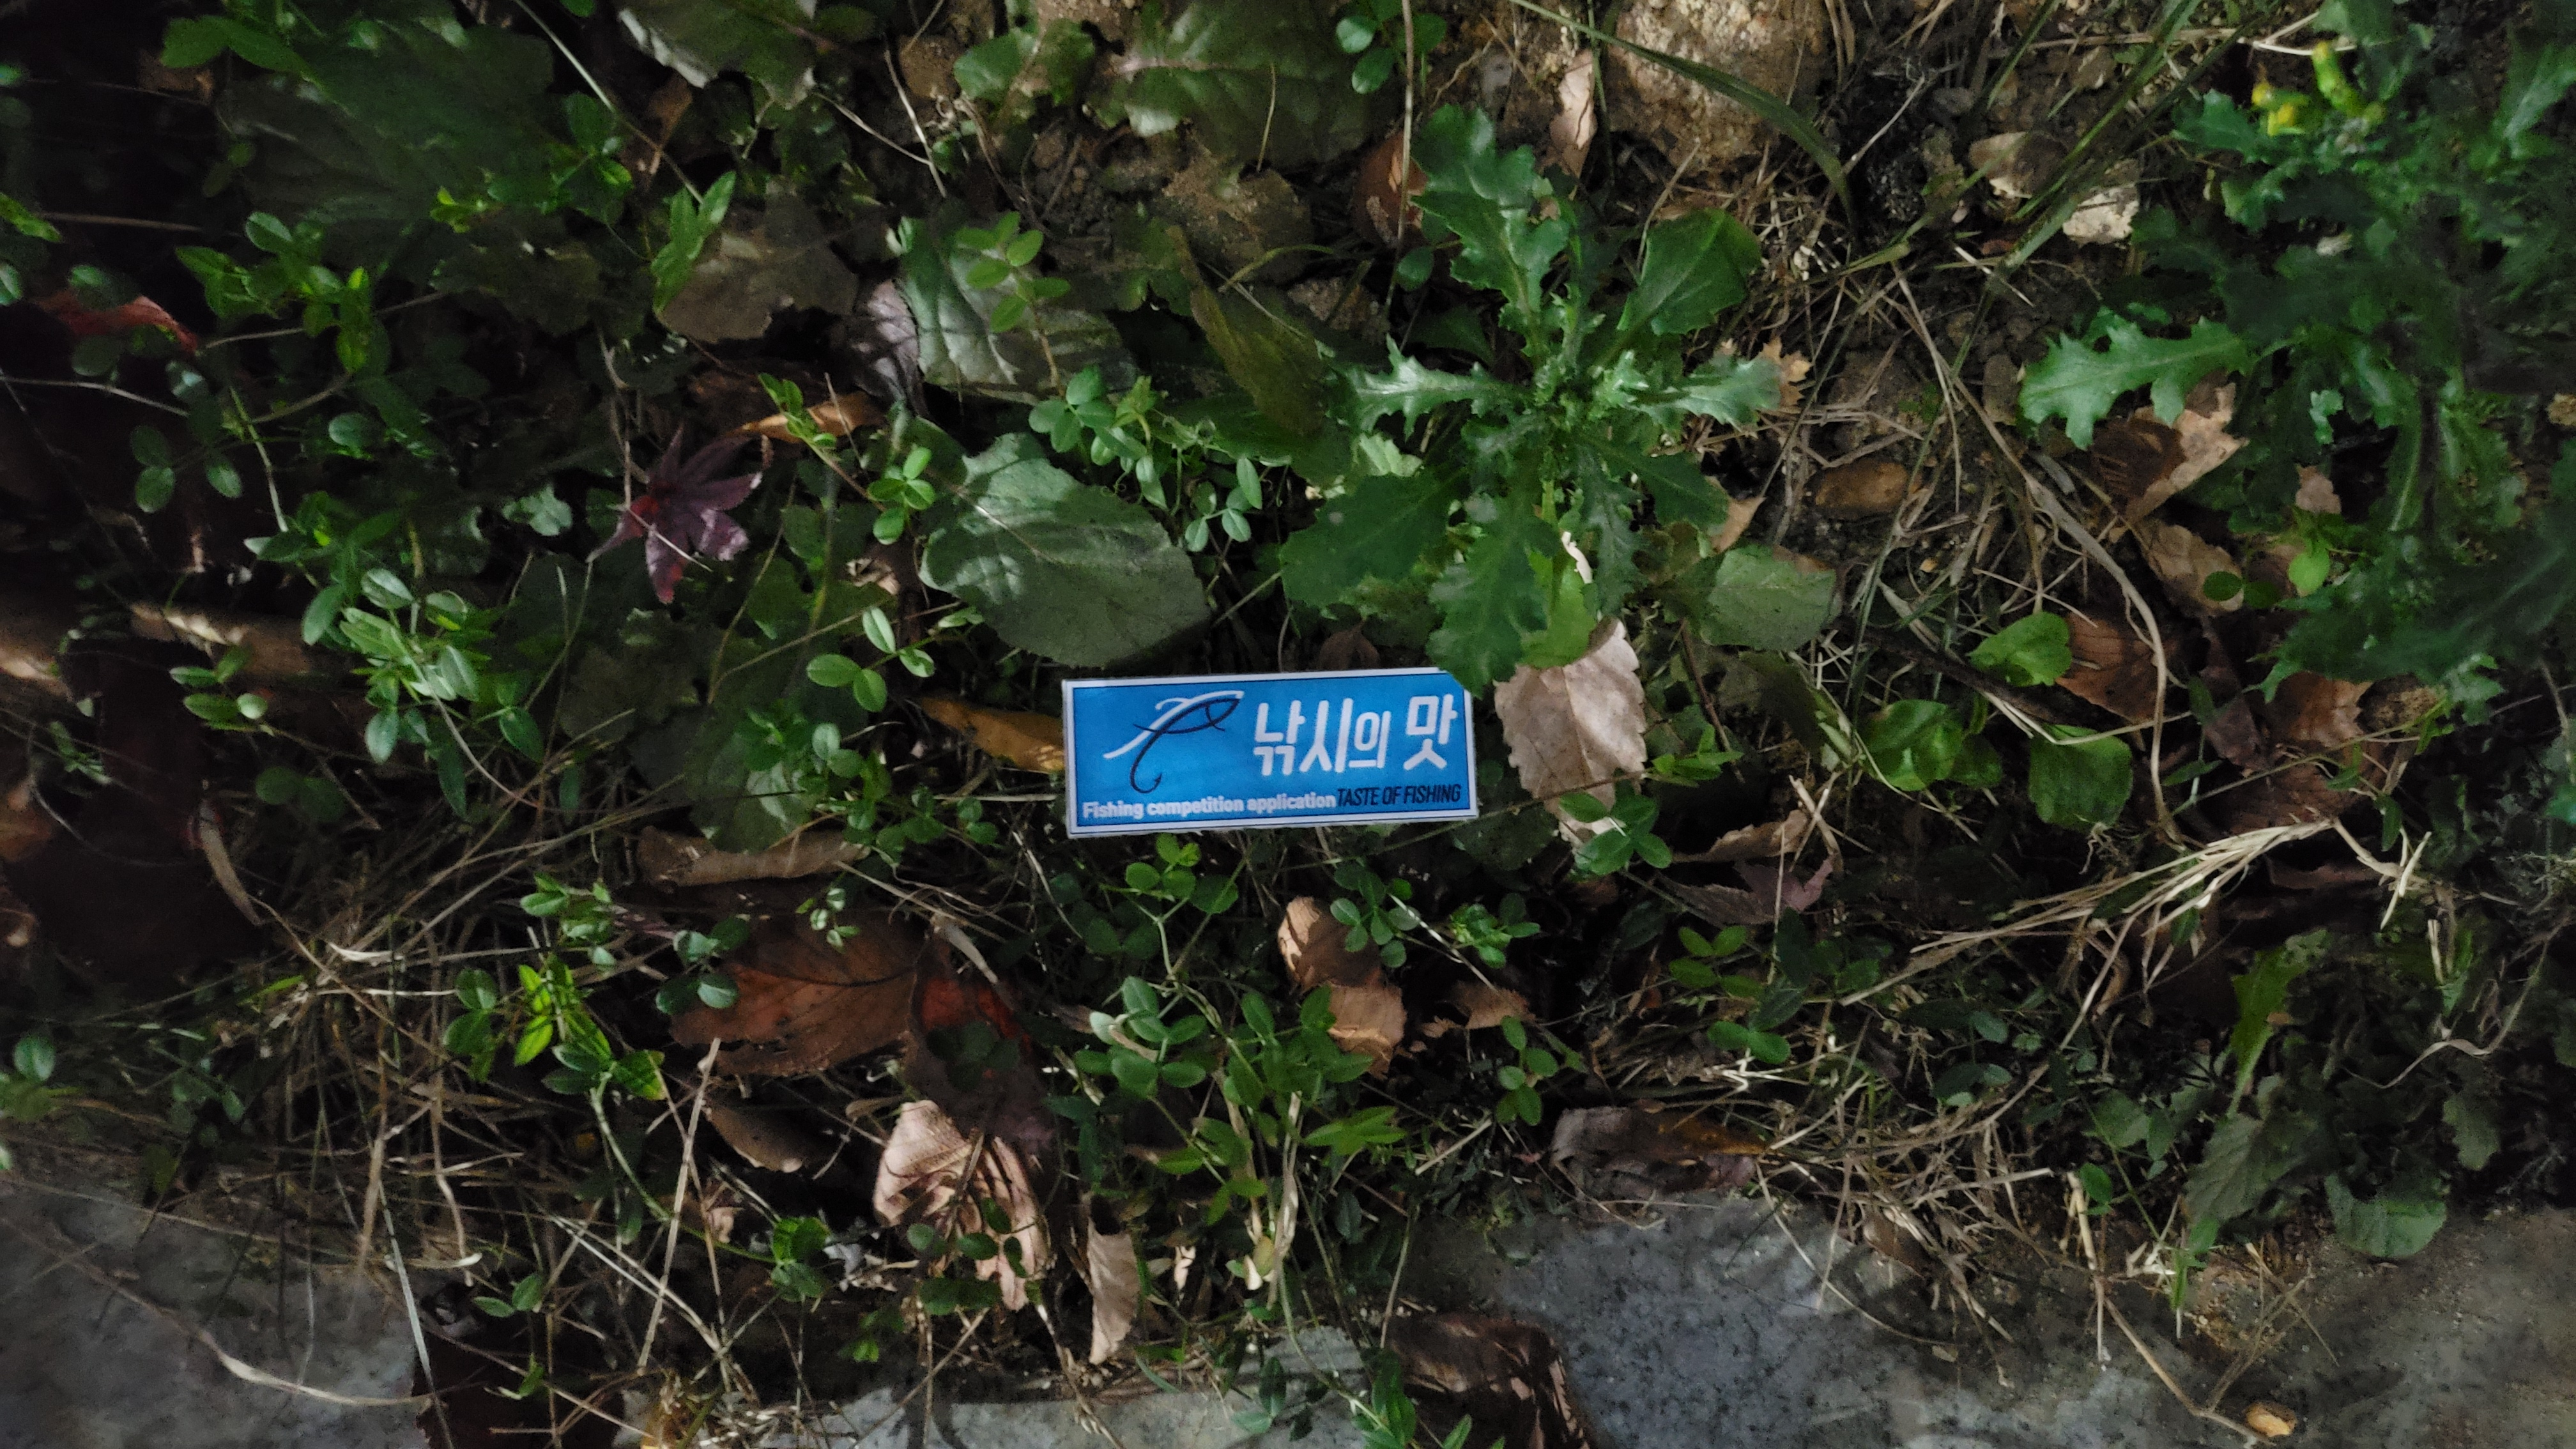tag: (1062, 665, 1479, 830)
